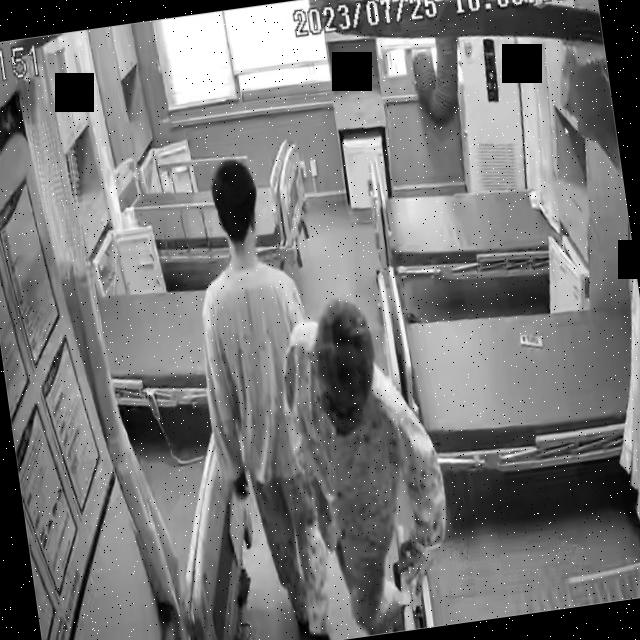bed: (380, 292, 640, 481), (71, 238, 278, 420), (110, 134, 316, 268), (369, 170, 566, 292)
patient: (173, 150, 351, 640), (271, 272, 463, 640)
stand: (176, 155, 354, 640), (272, 271, 462, 640)
